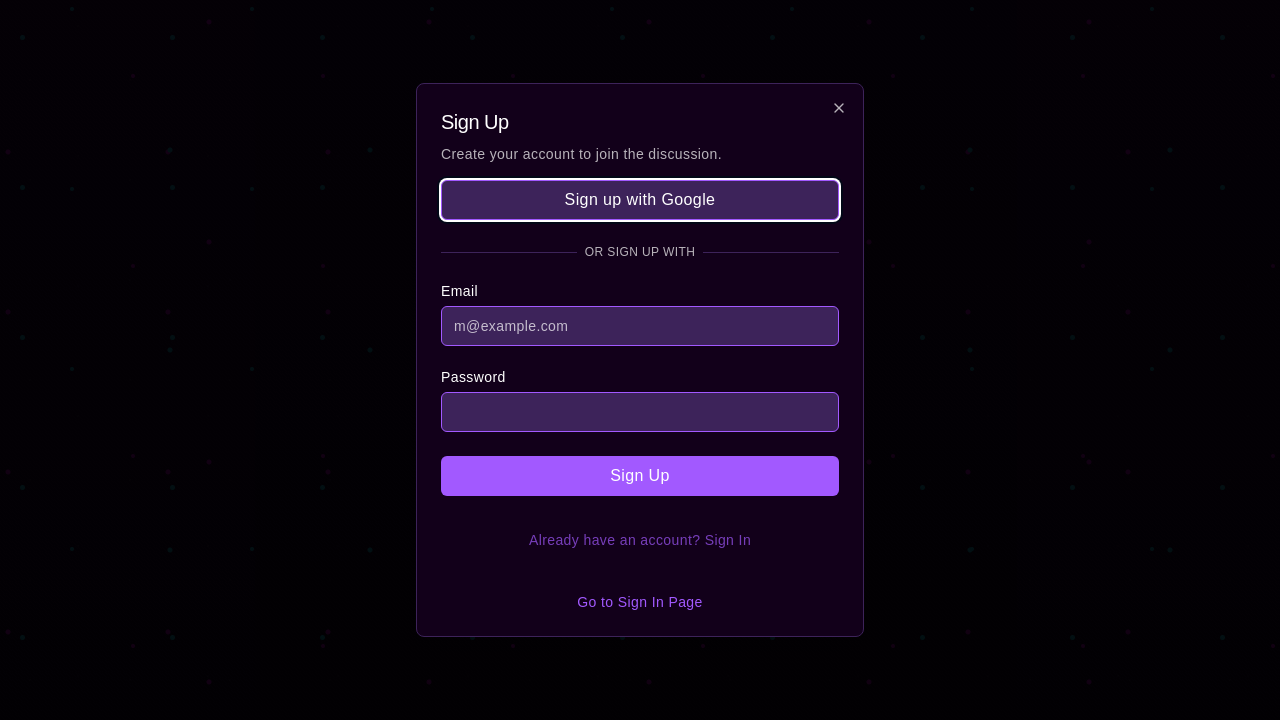
Test: AuthModal › displays error message on failed credentials sign-in
This screenshot has width=1280, height=720.
Click the button "Already have an account? Sign In". click: (640, 540)
box: top-left (441, 520), bottom-right (839, 560)
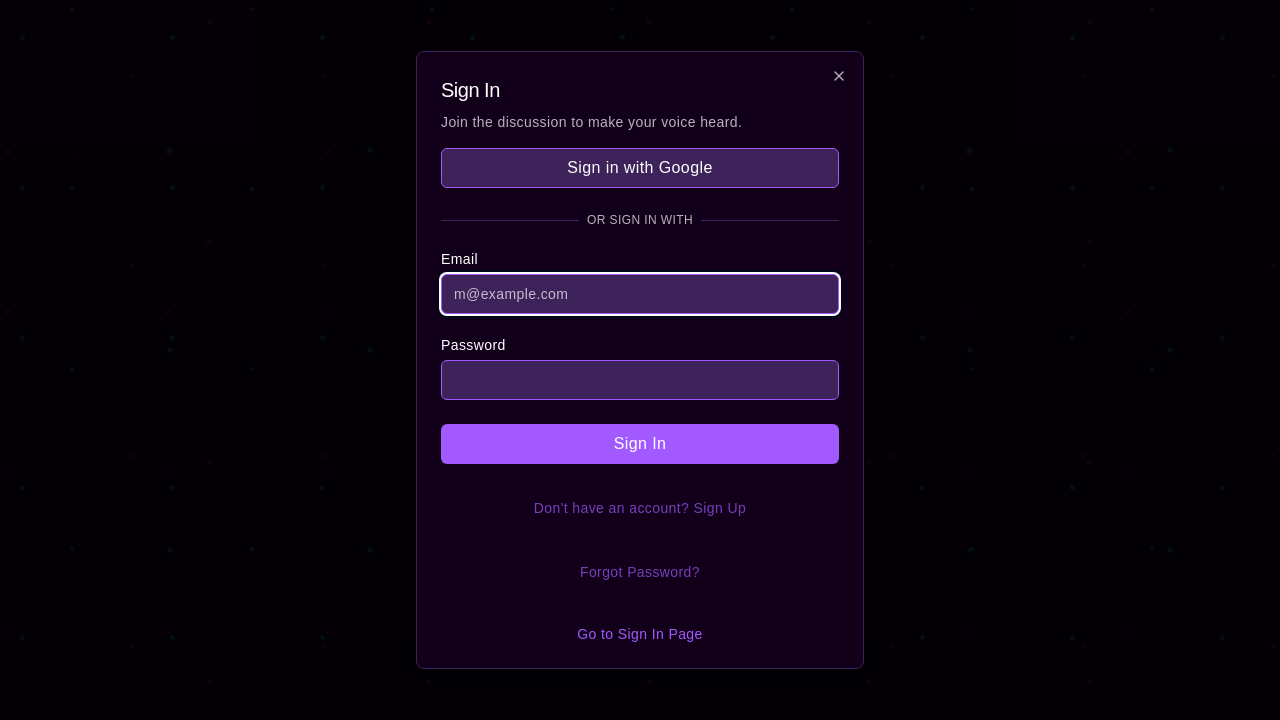
expect the heading "Sign In" is shown: met, box top-left (441, 79), bottom-right (500, 101)
Type "wrong@example.com" into the field labelled "Email". click: (640, 294)
box: top-left (441, 274), bottom-right (839, 314)
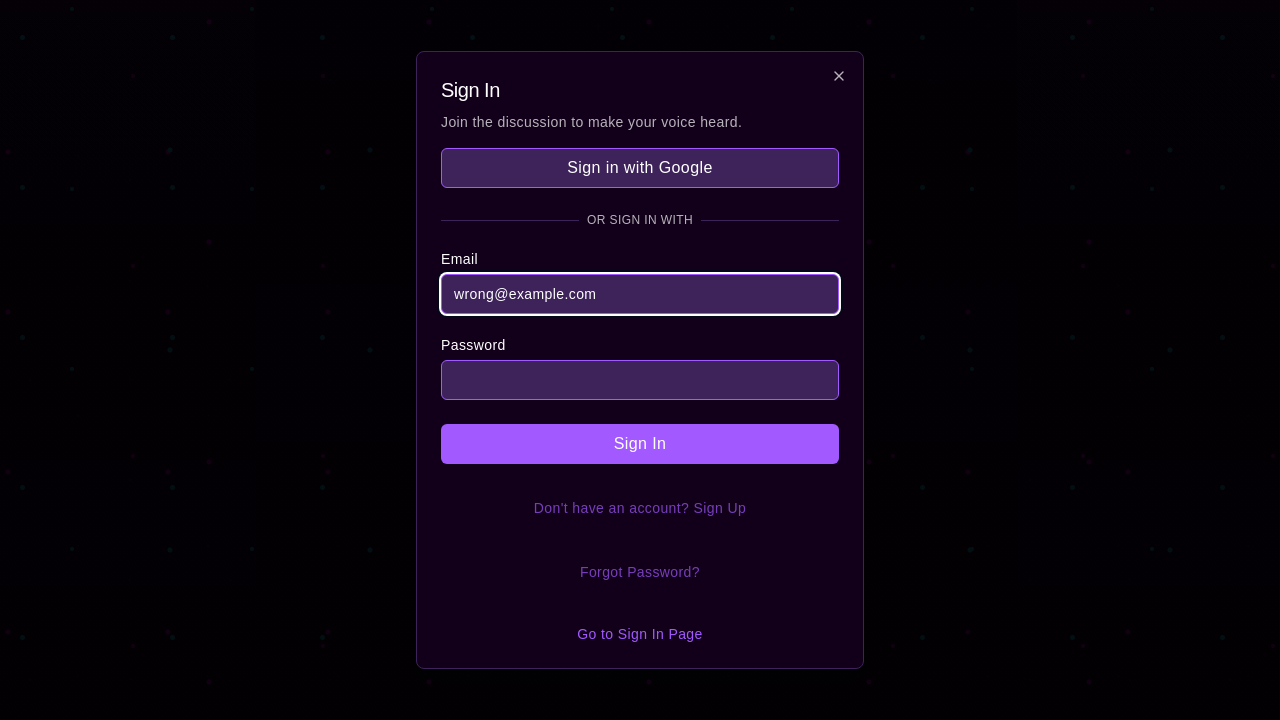
Type "Wrongpass1!" into the password field labelled "Password". click: (640, 380)
box: top-left (441, 360), bottom-right (839, 400)
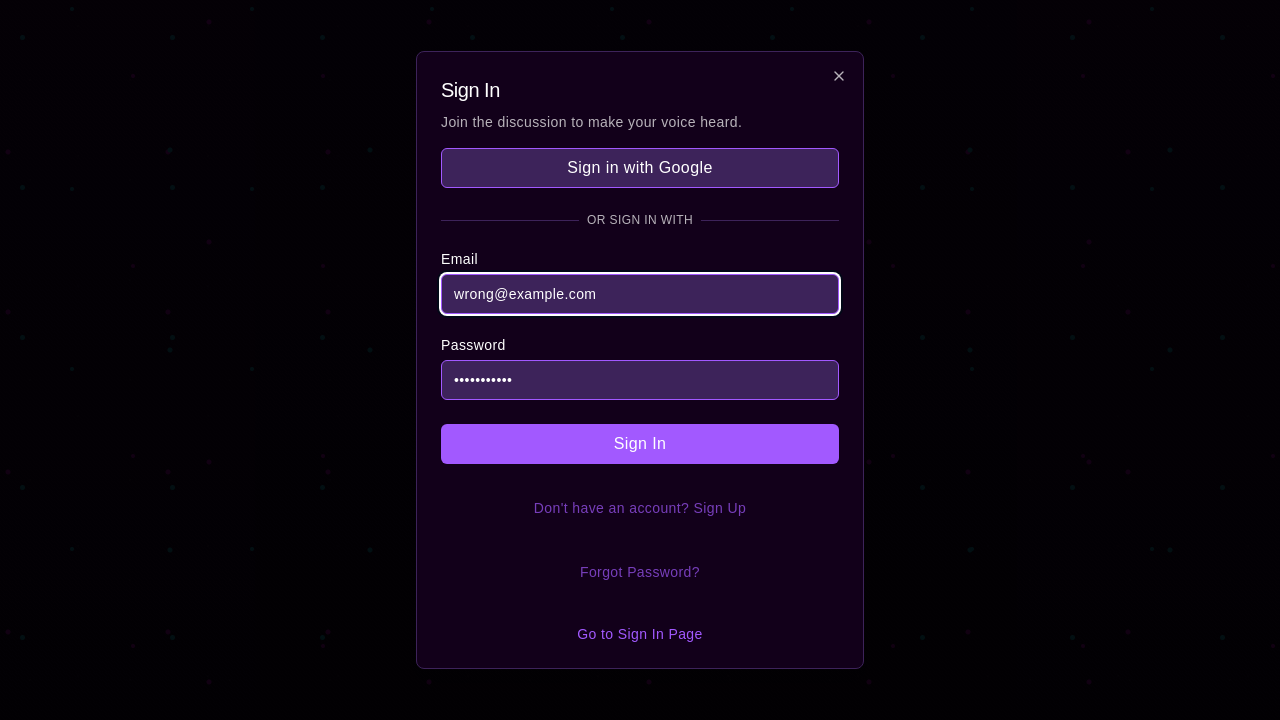
Submit the form with test id "auth-form", box top-left (441, 148), bottom-right (839, 592)
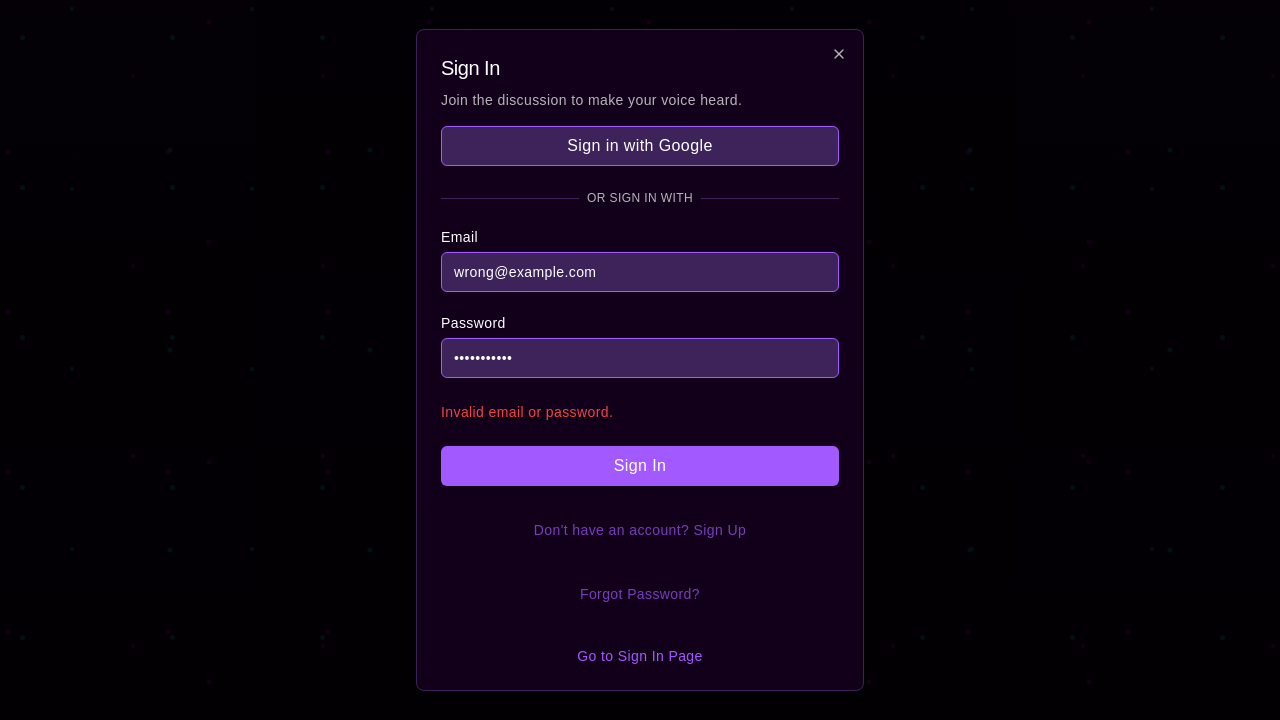
expect the text "Invalid email or password." is shown: met, box top-left (441, 404), bottom-right (613, 420)
